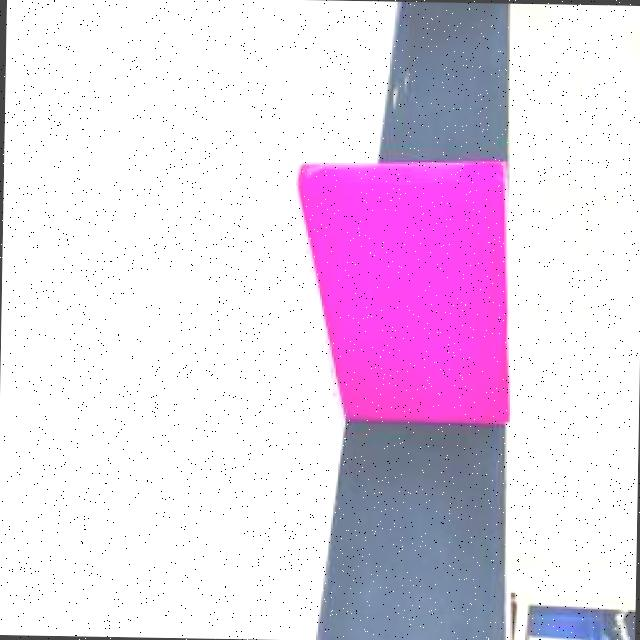xparking: (317, 159, 505, 420)
